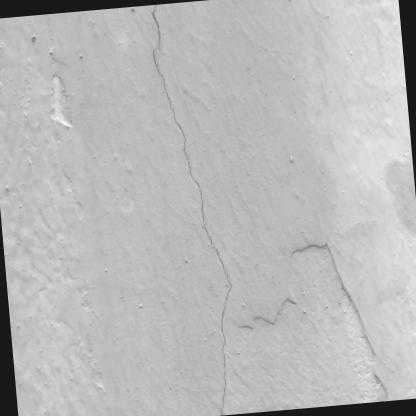crack: (150, 3, 233, 416)
